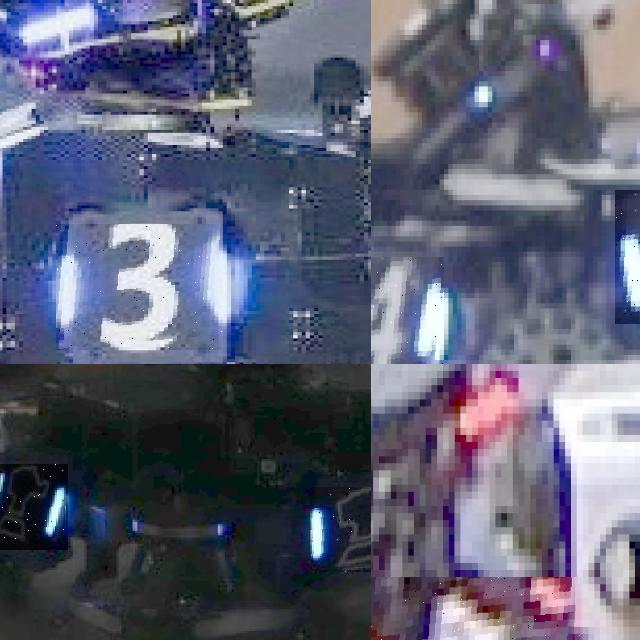B3: (56, 224, 222, 350)
B4: (371, 257, 444, 364)
Bs: (0, 463, 68, 550), (310, 487, 371, 572)
R4: (371, 577, 582, 640)
